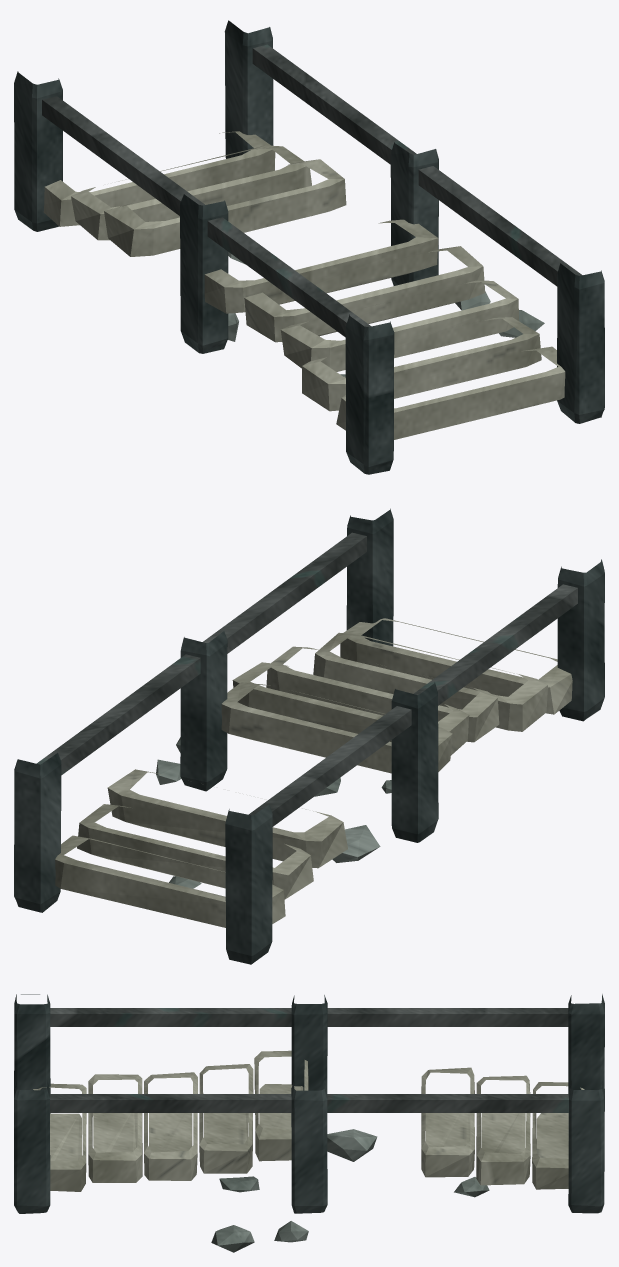
File: 0397_ruined_bridge_22.glb
3 renders of one model, top to bottom at view 1: azimuth 30°, elevation 25°; view 2: azimuth 150°, elevation 25°; view 3: azimuth 270°, elevation 25°, orthographic. The views are drawn at different scales.
Visible parts, largest first — view 1: stone_light, stone_dark, iron, stone; view 2: stone_light, stone_dark, iron, stone; view 3: stone_light, stone_dark, iron, stone.
Boxes of the visible parts, x1=… form: stone_light: x1=43, y1=131, x2=565, y2=439; stone_dark: x1=14, y1=20, x2=604, y2=474; iron: x1=42, y1=44, x2=582, y2=337; stone: x1=228, y1=252, x2=544, y2=376; stone_light: x1=55, y1=618, x2=572, y2=927; stone_dark: x1=14, y1=508, x2=604, y2=964; iron: x1=37, y1=532, x2=577, y2=826; stone: x1=156, y1=737, x2=391, y2=888; stone_light: x1=33, y1=1050, x2=584, y2=1191; stone_dark: x1=14, y1=994, x2=604, y2=1213; iron: x1=50, y1=1008, x2=568, y2=1112; stone: x1=211, y1=1129, x2=489, y2=1252.
Bounding box in the file's own units: 2.02 × 1.09 × 4.11.
4 materials, 4 textured.
